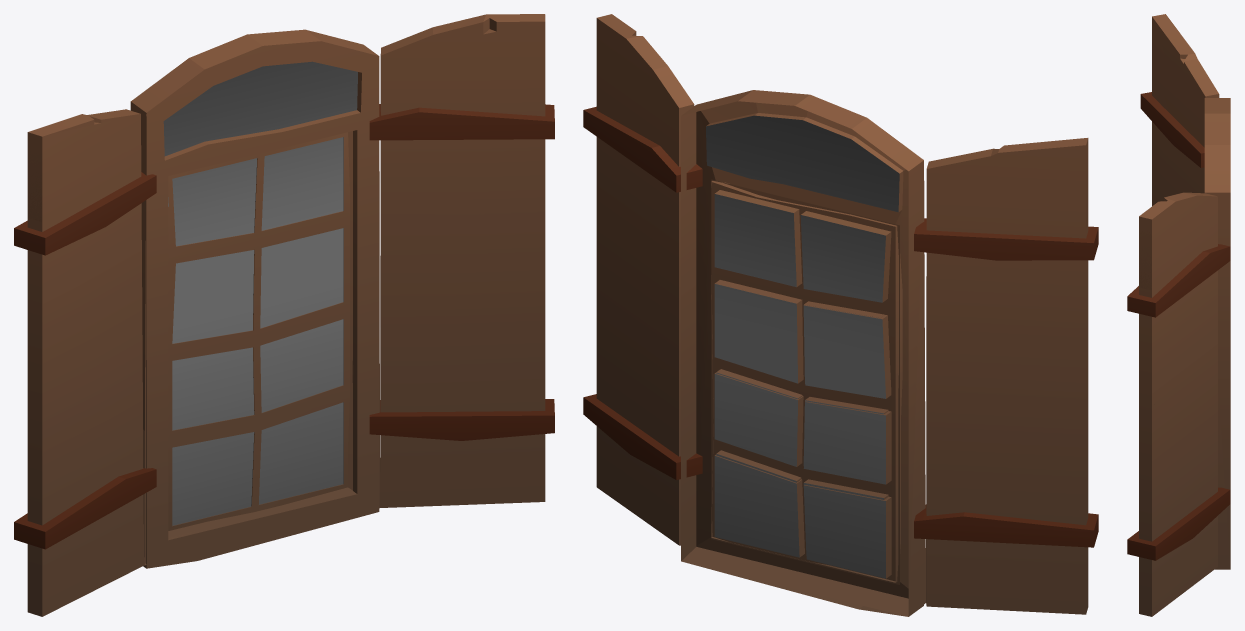
Rendered from Window 03.fbx.
3 renders of one model, left to right at view 1: azimuth 30°, elevation 25°; view 2: azimuth 150°, elevation 25°; view 3: azimuth 270°, elevation 25°, orthographic. The views are drawn at different scales.
Parts seen in each view (by area): view 1: Window 03 low, Window 03 high, Window 03; view 2: Window 03 high, Window 03, Window 03 low; view 3: Window 03 high, Window 03 low, Window 03.
Boxes of the visible parts, left/top/right/bottom form: Window 03 low: left=27, top=22, right=545, bottom=616; Window 03 high: left=14, top=14, right=554, bottom=568; Window 03: left=14, top=18, right=554, bottom=616; Window 03 high: left=583, top=14, right=1098, bottom=616; Window 03: left=583, top=18, right=1098, bottom=614; Window 03 low: left=596, top=18, right=1086, bottom=616; Window 03 high: left=1127, top=14, right=1230, bottom=615; Window 03 low: left=1139, top=17, right=1230, bottom=616; Window 03: left=1127, top=21, right=1230, bottom=613.
Size of the model in its own units: 1.87 by 1.68 by 0.3812.
1 material, 1 textured.
